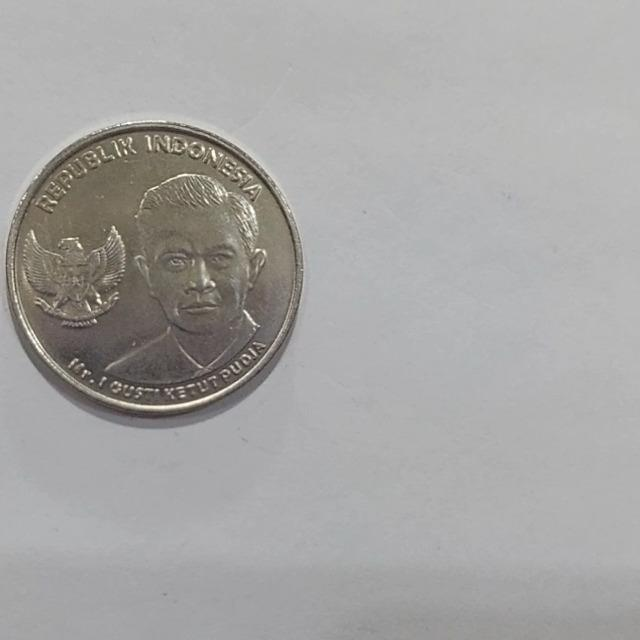Rp100: (4, 118, 305, 420), (97, 169, 270, 386), (18, 221, 127, 328)
